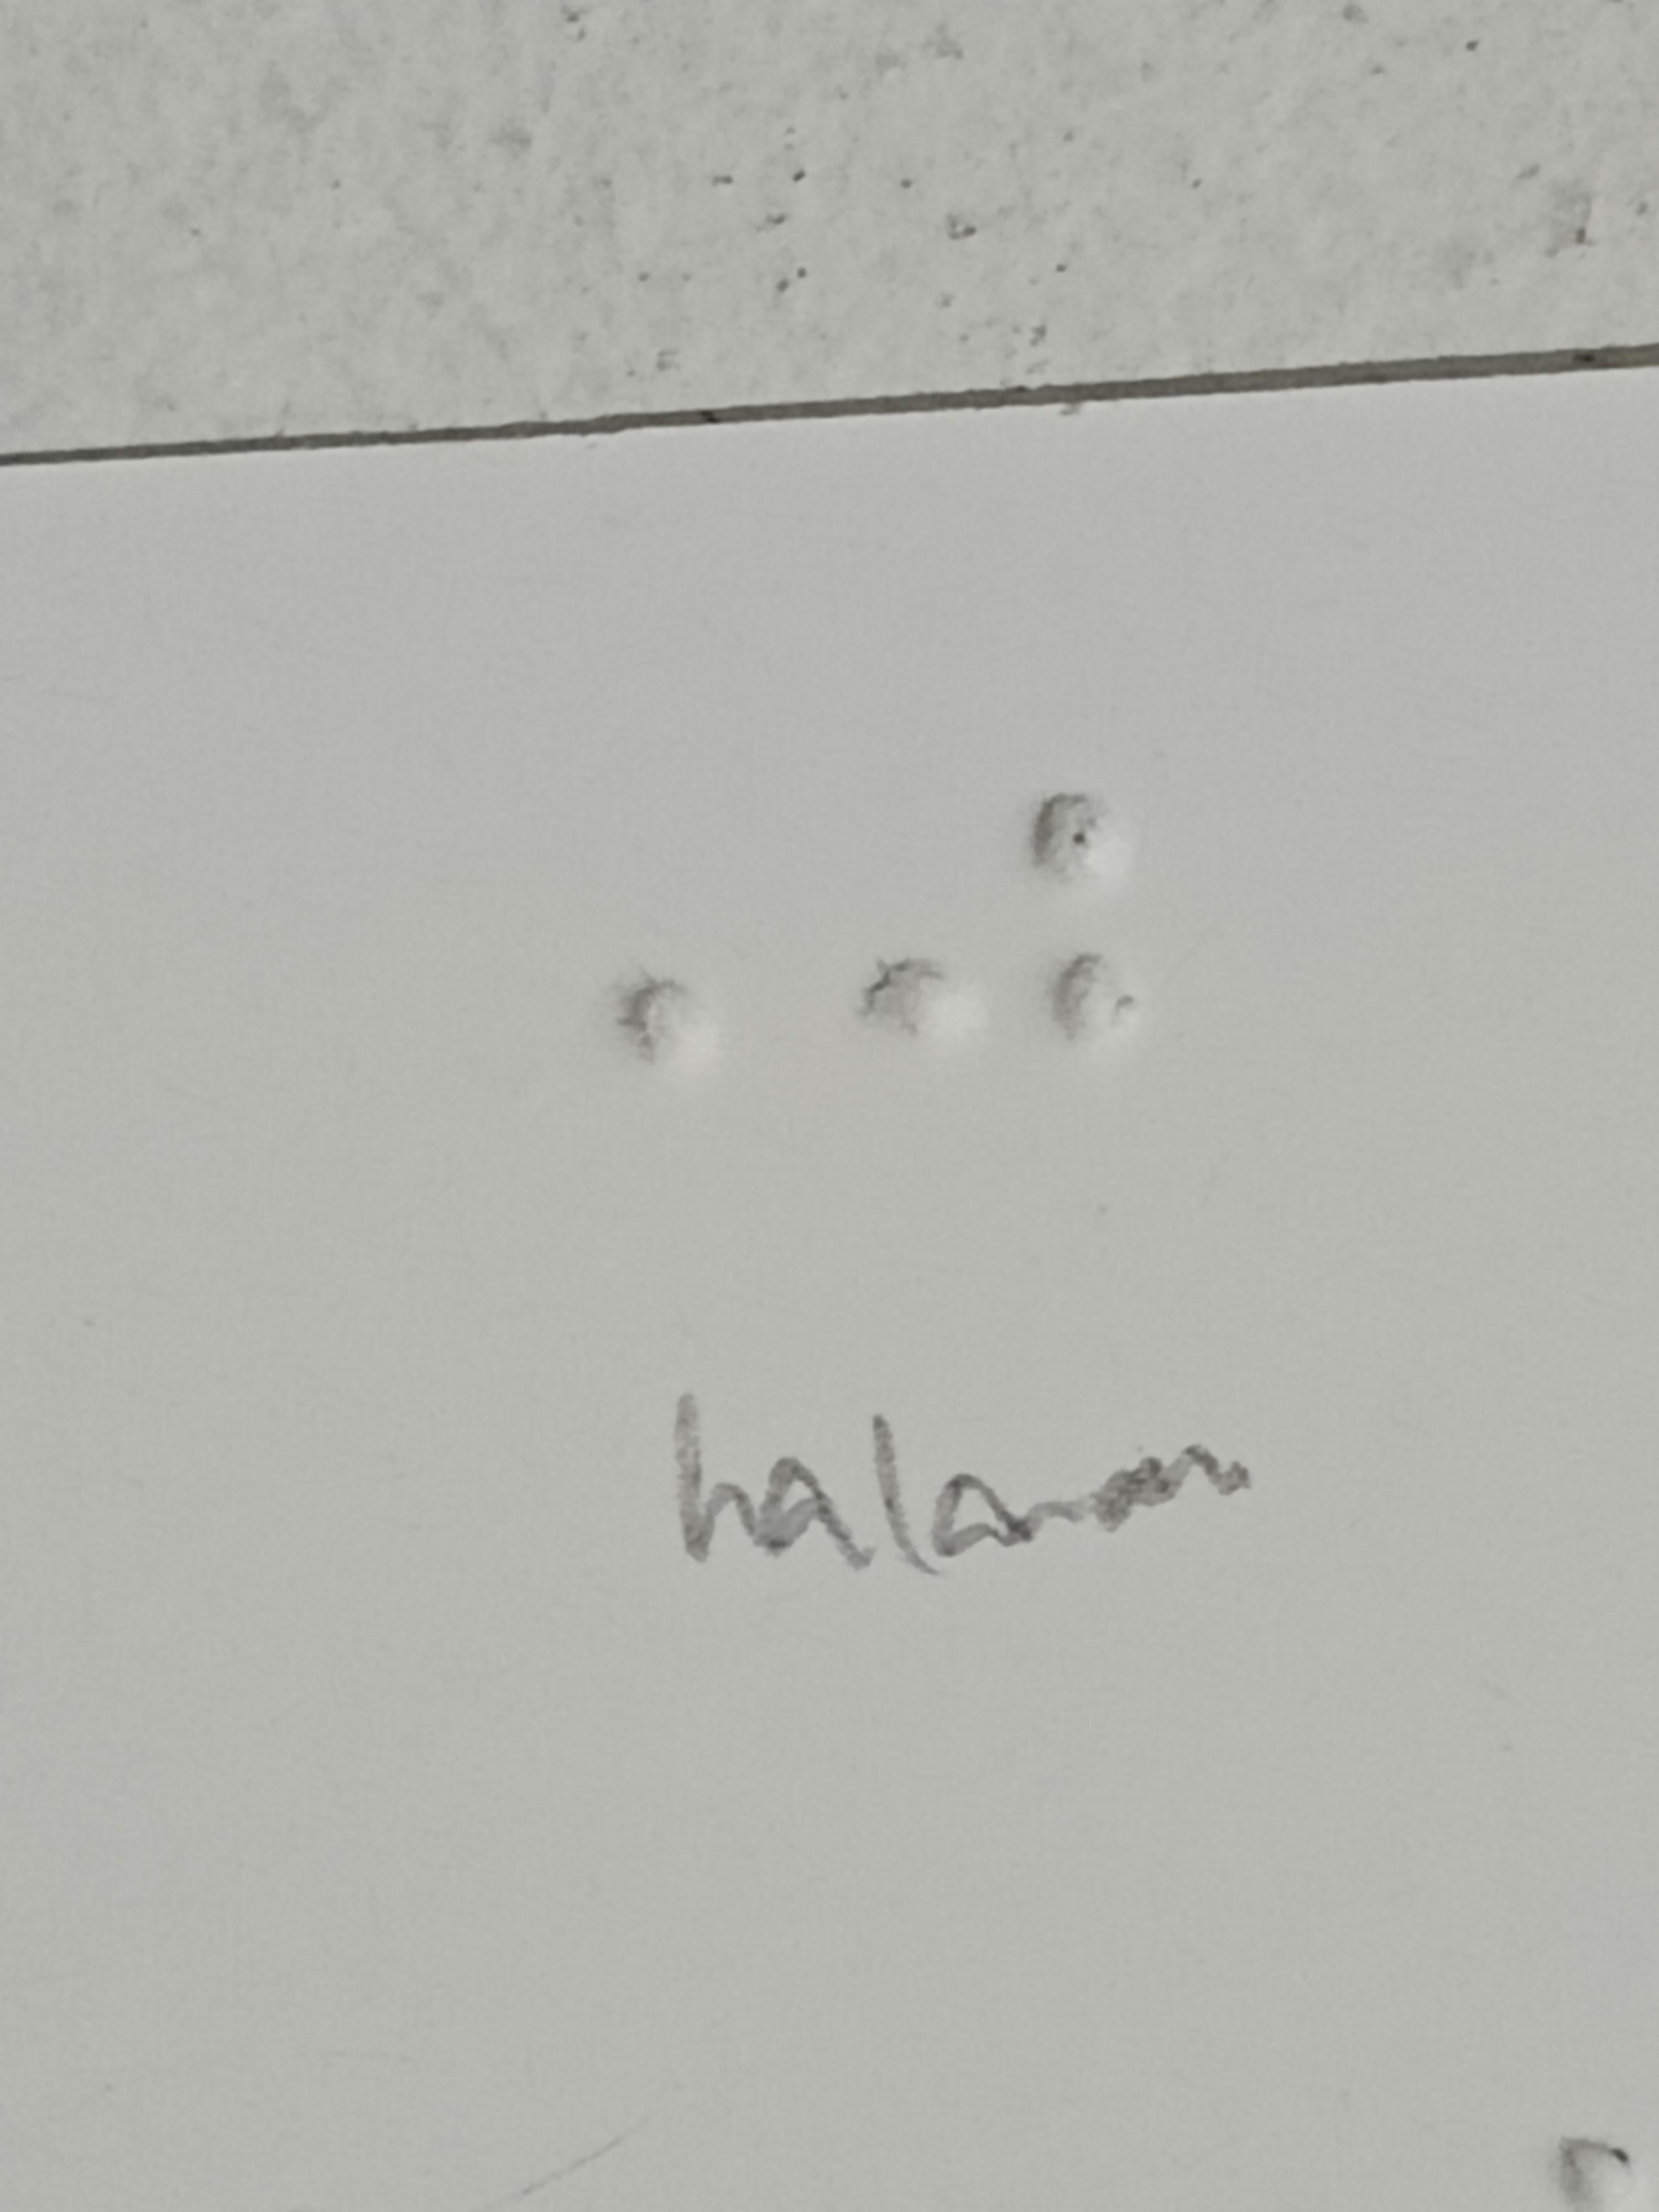dot_5: (430, 772, 718, 1242)
two_cell_alphabet_halaman: (864, 775, 1150, 1247)
